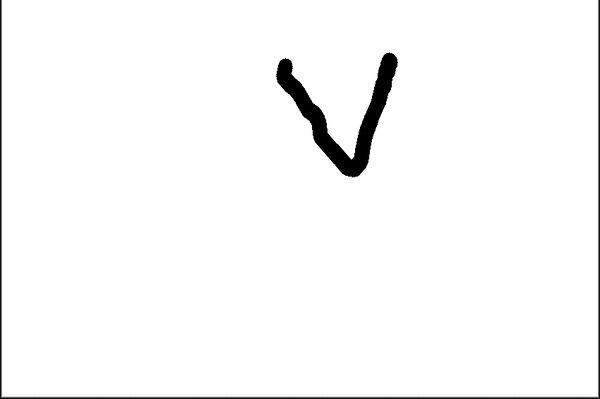V: (259, 42, 417, 190)
